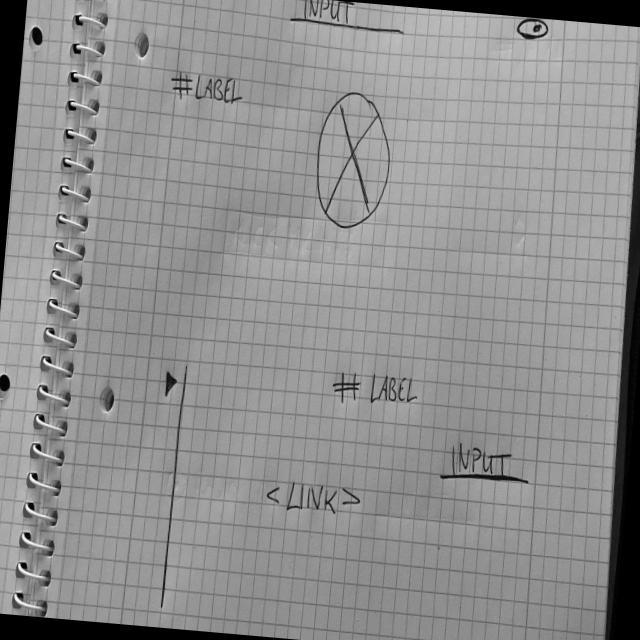image: (309, 87, 396, 234)
input: (436, 437, 533, 492), (287, 0, 408, 37)
label: (328, 364, 422, 411), (167, 66, 248, 109)
link: (262, 475, 364, 519)
toggle: (512, 16, 551, 45)
